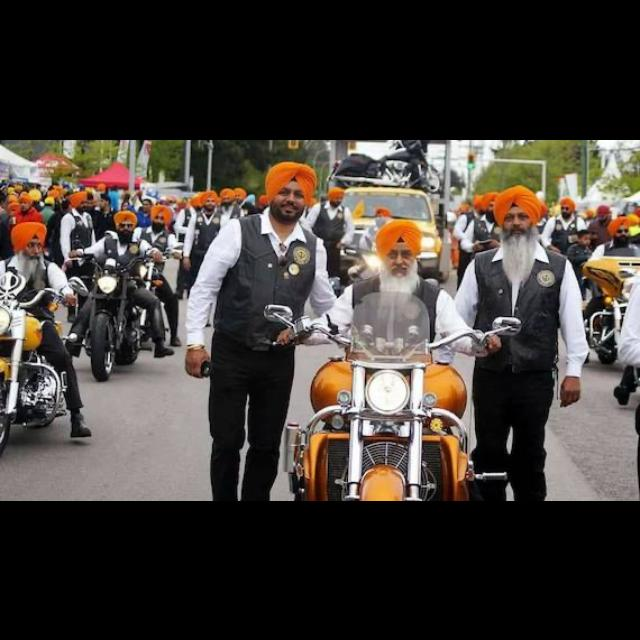Without Helmet: (365, 213, 433, 280)
